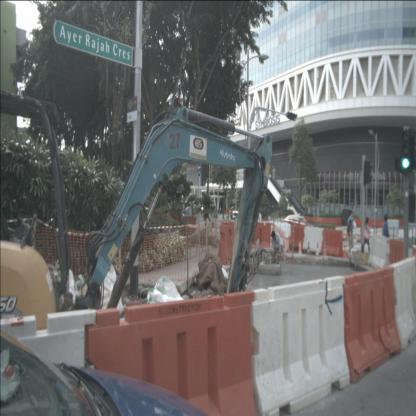human-pedestrian-adult: (270, 231, 286, 264), (381, 214, 390, 260), (347, 211, 356, 253), (362, 216, 370, 255)
movable_object-barrier: (85, 290, 255, 416), (249, 276, 350, 416), (0, 308, 97, 415), (334, 265, 402, 385), (380, 256, 416, 351), (367, 235, 391, 272), (388, 239, 410, 278), (249, 221, 273, 252), (218, 221, 235, 263), (302, 226, 326, 254), (320, 228, 343, 257), (275, 221, 291, 250), (289, 224, 305, 250), (196, 217, 208, 233), (186, 216, 196, 231), (412, 243, 415, 281), (387, 219, 399, 228), (178, 216, 186, 229), (376, 219, 386, 228), (398, 218, 408, 227), (368, 219, 377, 228), (354, 219, 362, 227), (336, 218, 343, 224), (302, 216, 308, 222), (322, 218, 328, 224), (327, 218, 332, 224), (225, 209, 230, 214), (332, 218, 336, 224), (317, 218, 321, 223), (307, 217, 312, 221), (312, 217, 316, 221)
movable_object-trafficcone: (343, 238, 347, 258), (323, 240, 327, 256), (298, 240, 302, 256), (315, 241, 319, 256), (306, 241, 310, 255), (354, 230, 357, 239)
vehicle-car: (0, 327, 219, 415), (278, 214, 313, 237)
